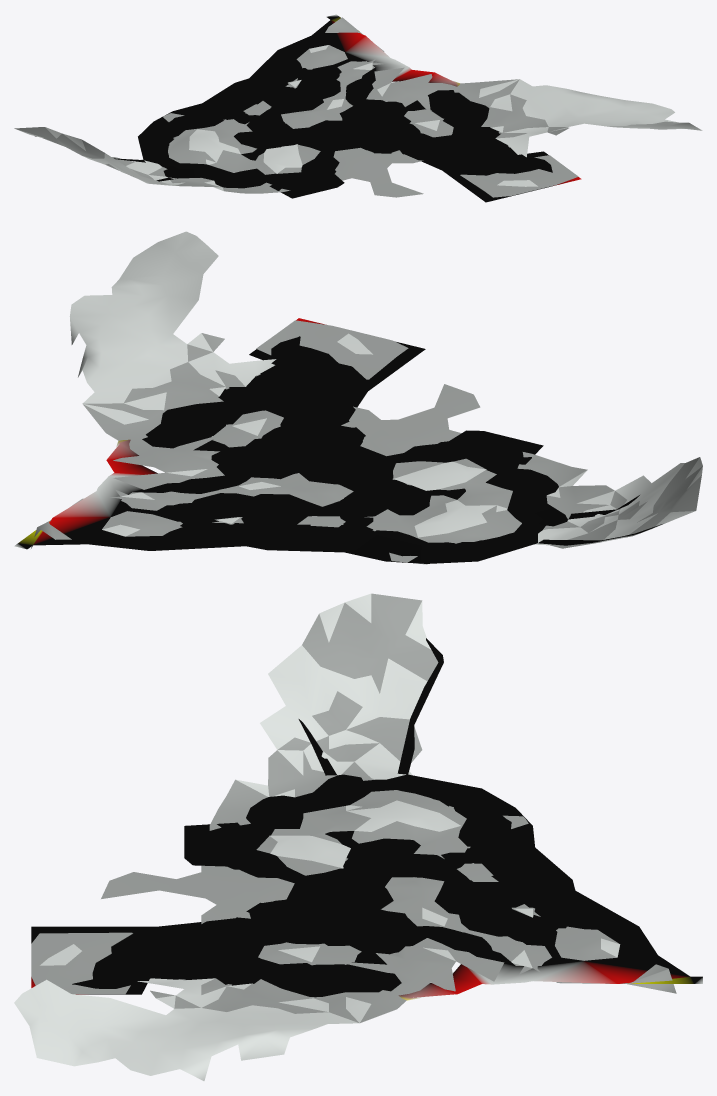
The picture shows the model from 3 angles, top to bottom: view 1: azimuth 30°, elevation 25°; view 2: azimuth 150°, elevation 25°; view 3: azimuth 270°, elevation 25°; orthographic projection. The views are drawn at different scales.
Visible parts, largest first — view 1: G:\FFXIV-MapTools\exports\d2t1\bg\ex1\02_dra_d2\twn\d2t1\bgp (×7); view 2: G:\FFXIV-MapTools\exports\d2t1\bg\ex1\02_dra_d2\twn\d2t1\bgp (×7); view 3: G:\FFXIV-MapTools\exports\d2t1\bg\ex1\02_dra_d2\twn\d2t1\bgp (×8).
Boxes of the visible parts, x1=… form: G:\FFXIV-MapTools\exports\d2t1\bg\ex1\02_dra_d2\twn\d2t1\bgp (×7): x1=14, y1=14, x2=702, y2=202; G:\FFXIV-MapTools\exports\d2t1\bg\ex1\02_dra_d2\twn\d2t1\bgp (×7): x1=14, y1=231, x2=702, y2=564; G:\FFXIV-MapTools\exports\d2t1\bg\ex1\02_dra_d2\twn\d2t1\bgp (×8): x1=14, y1=593, x2=702, y2=1080.
Bounding box in the file's own units: 895 × 118 × 648.
